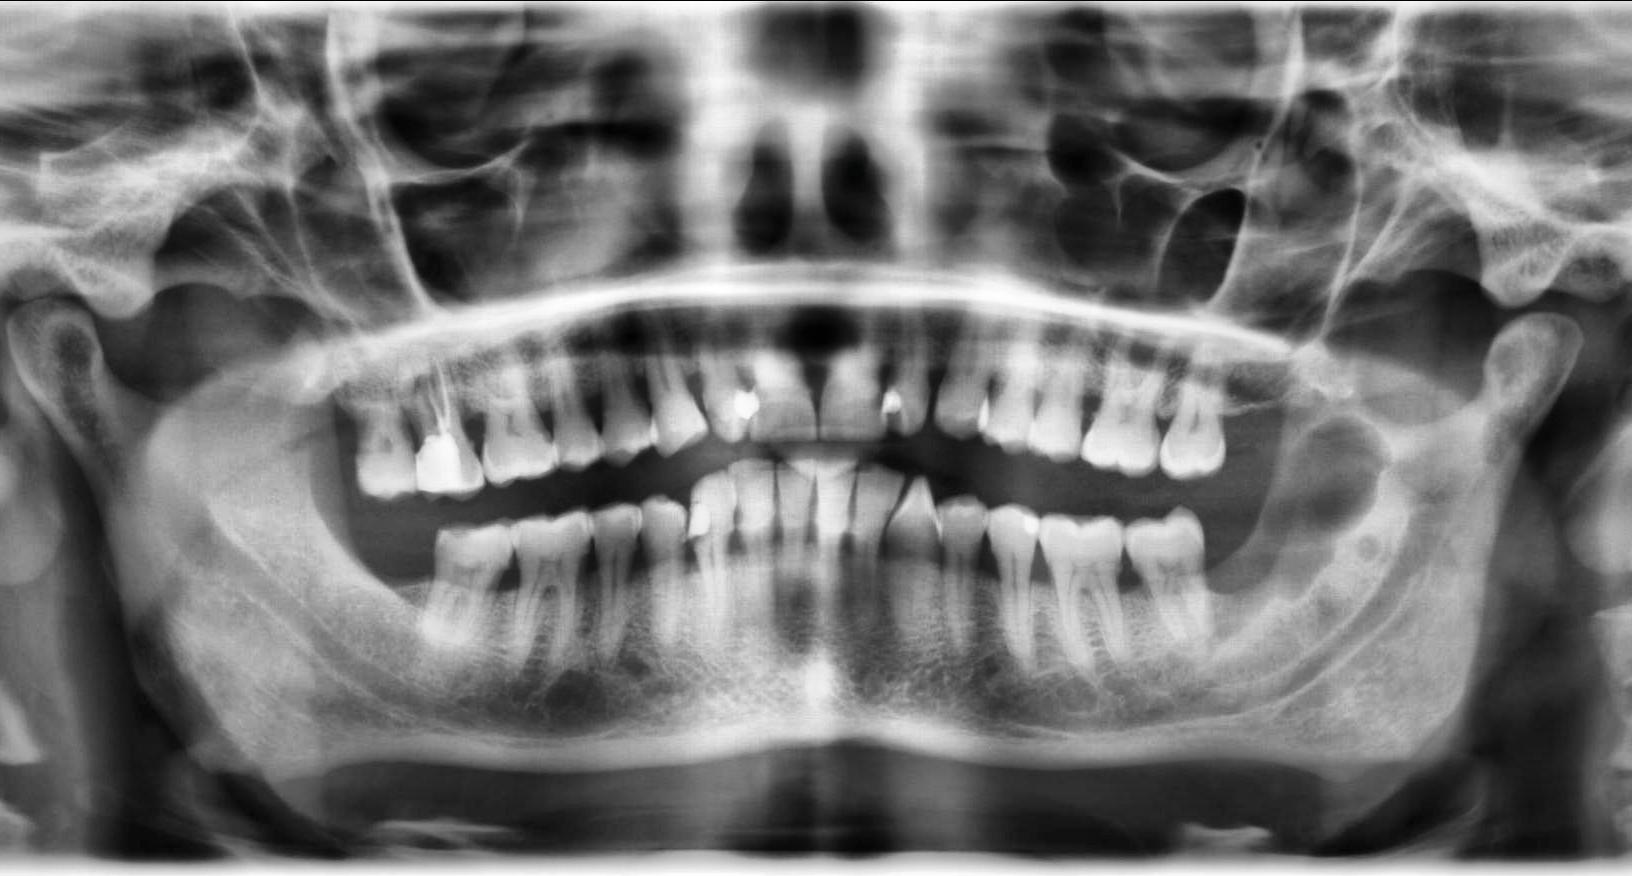keratokist: (1203, 416, 1395, 642)
